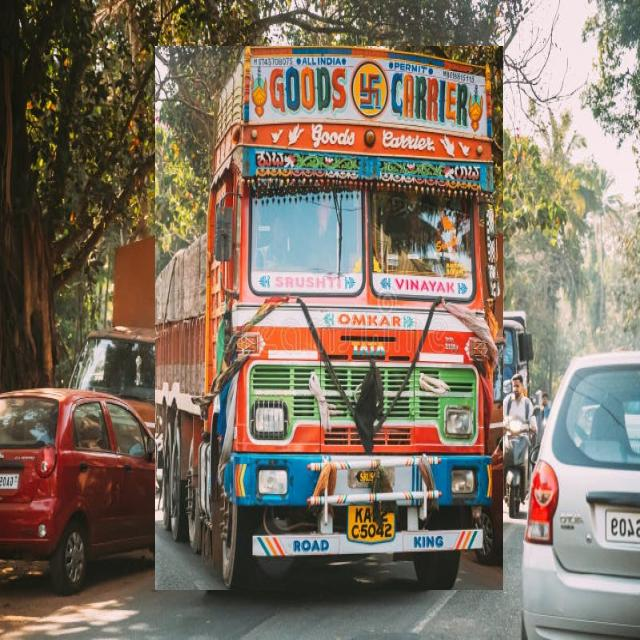car: (0, 390, 180, 595), (522, 352, 640, 638)
motorcycle: (500, 375, 536, 518)
truck: (155, 47, 502, 590)
